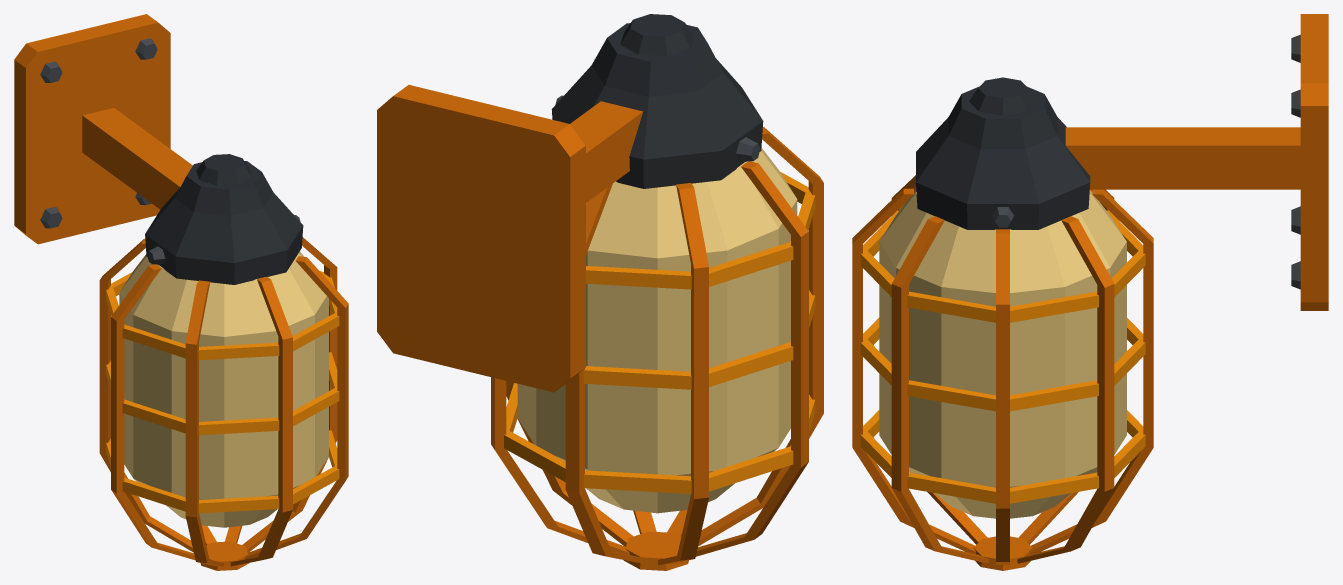
The model's file is Mining Wall Lighting.obj.
The picture shows the model from 3 angles, left to right: view 1: azimuth 30°, elevation 25°; view 2: azimuth 150°, elevation 25°; view 3: azimuth 270°, elevation 25°; orthographic projection. The views are drawn at different scales.
Parts seen in each view (by area): view 1: Mining_Wall_Lighting.Static; view 2: Mining_Wall_Lighting.Static; view 3: Mining_Wall_Lighting.Static.
Part boxes in pixels (left/top/right/bottom): Mining_Wall_Lighting.Static: left=14, top=14, right=348, bottom=570; Mining_Wall_Lighting.Static: left=377, top=14, right=823, bottom=570; Mining_Wall_Lighting.Static: left=852, top=14, right=1328, bottom=570.
Bounding box in the file's own units: 0.348 × 0.649 × 0.55.
